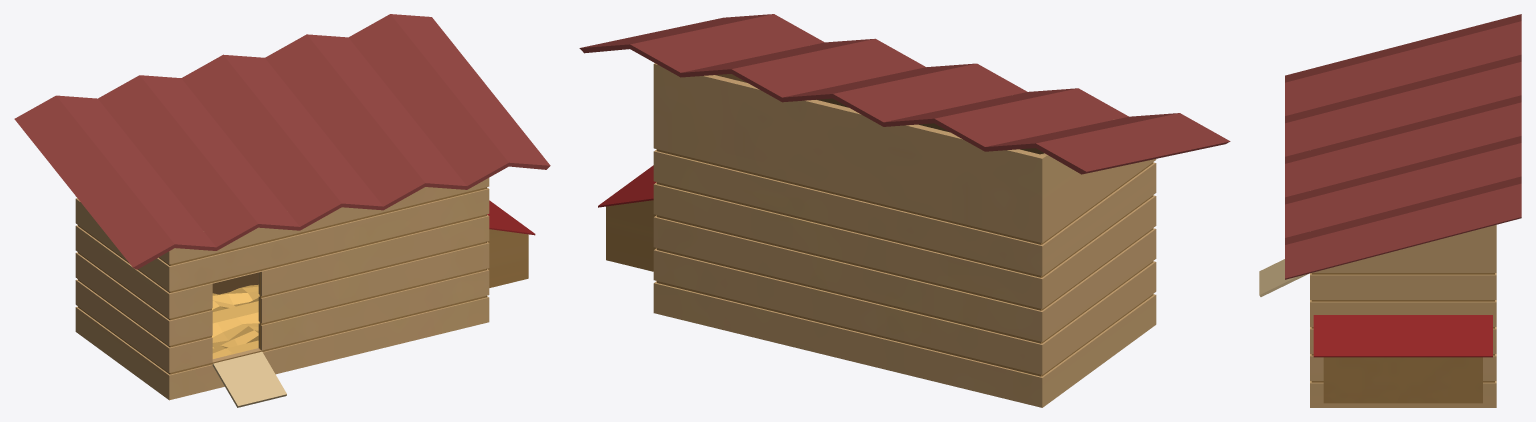
Rendered from mod_BG_AbriCanard.fbx.
3 renders of one model, left to right at view 1: azimuth 30°, elevation 25°; view 2: azimuth 150°, elevation 25°; view 3: azimuth 270°, elevation 25°, orthographic. The views are drawn at different scales.
Visible parts, largest first — view 1: Cube.002; view 2: Cube.002; view 3: Cube.002.
Boxes of the visible parts, x1,y1,x2,y2 form: Cube.002: [14, 14, 550, 407]; Cube.002: [579, 14, 1230, 407]; Cube.002: [1259, 14, 1521, 407].
Size of the model in its own units: 141 by 74.07 by 77.23.
